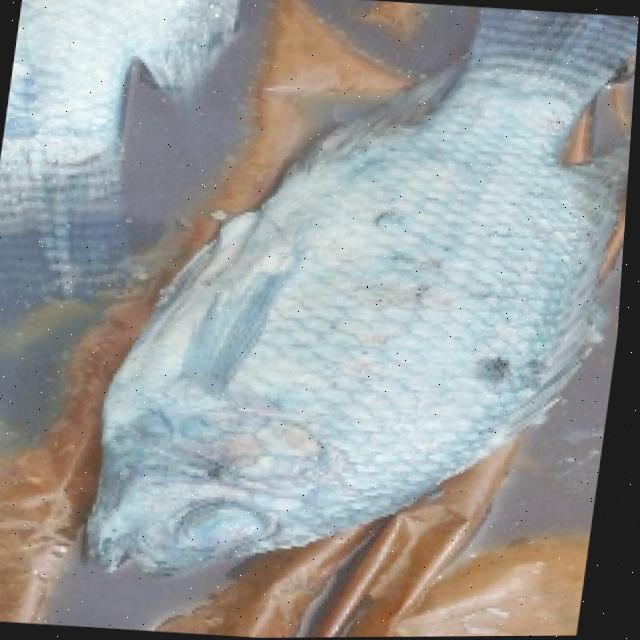Non-Fresh: (76, 60, 589, 639), (185, 493, 288, 569)
